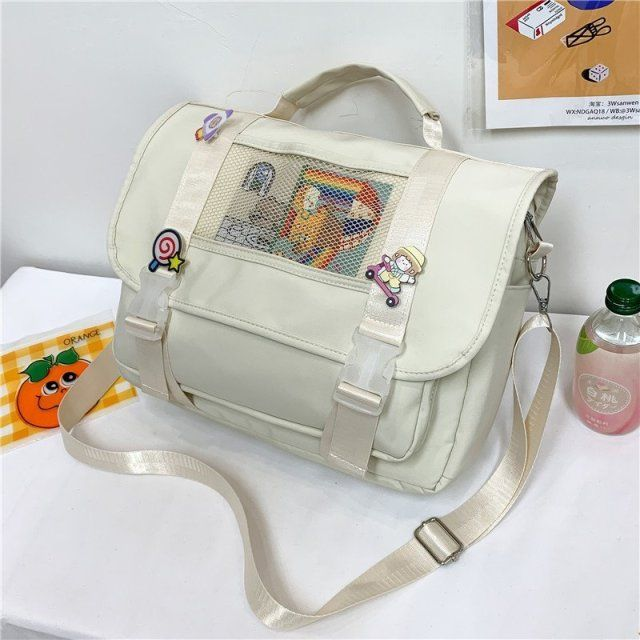nylon: (111, 63, 558, 496)
